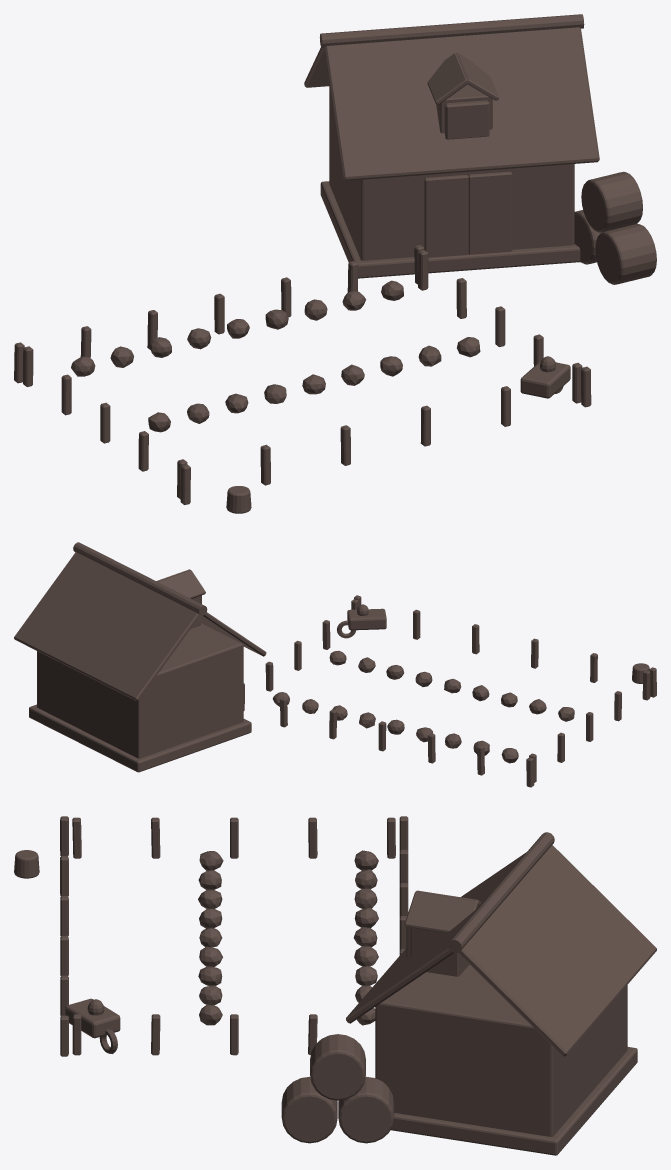
Rendered from farm.ol.glb.
The picture shows the model from 3 angles, top to bottom: view 1: azimuth 30°, elevation 25°; view 2: azimuth 150°, elevation 25°; view 3: azimuth 270°, elevation 25°; orthographic projection. The views are drawn at different scales.
Parts seen in each view (by area): view 1: outline; view 2: outline; view 3: outline.
Part boxes in pixels (<box>): outline: <box>14,14,656,513</box>; outline: <box>14,542,656,787</box>; outline: <box>14,816,656,1155</box>.
Bounding box in the file's own units: 23.38 × 7.39 × 20.46.
